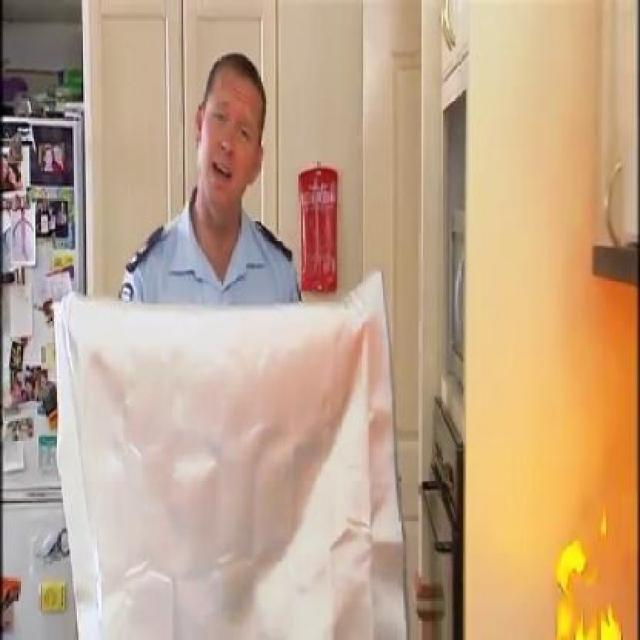fire: (537, 512, 631, 640)
smoke: (562, 278, 636, 497)
